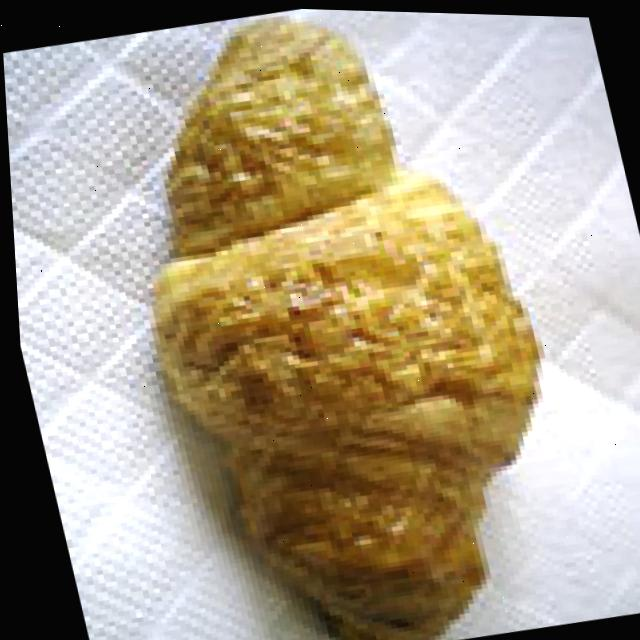面包点心: (64, 1, 606, 640)
